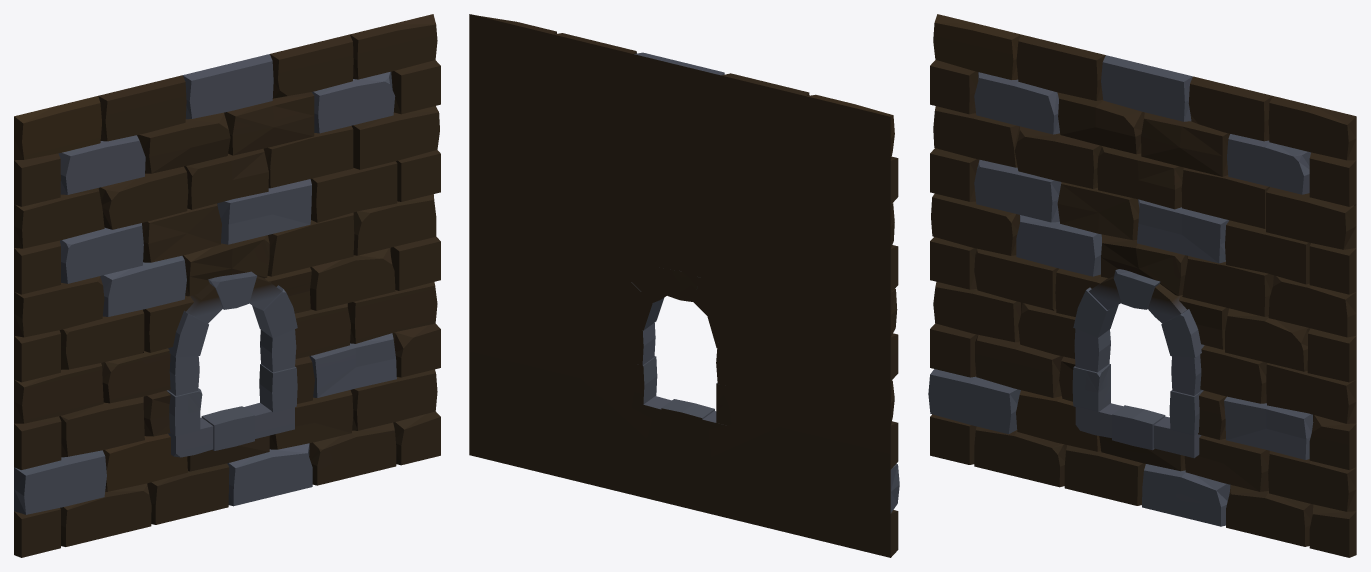
The model's file is Wall_35.fbx.
3 renders of one model, left to right at view 1: azimuth 30°, elevation 25°; view 2: azimuth 150°, elevation 25°; view 3: azimuth 330°, elevation 25°, orthographic.
Parts seen in each view (by area): view 1: Wall_35; view 2: Wall_35; view 3: Wall_35.
Boxes of the visible parts, left/top/right/bottom form: Wall_35: left=14, top=14, right=440, bottom=557; Wall_35: left=469, top=14, right=899, bottom=557; Wall_35: left=928, top=14, right=1356, bottom=557.
Bounding box in the file's own units: 4 × 4 × 0.2145.
